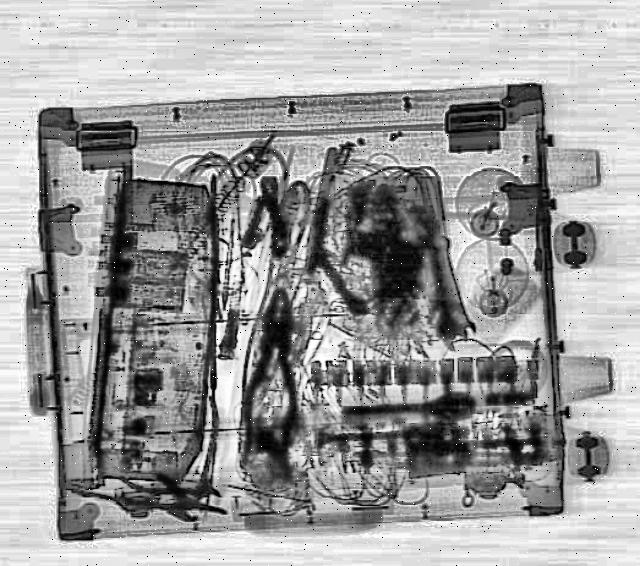Pliers: (96, 392, 274, 528), (234, 285, 308, 459)
Wrench: (422, 233, 470, 351)
